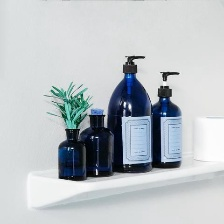bottle: (105, 62, 156, 178), (149, 87, 187, 173), (77, 113, 115, 181), (55, 124, 87, 182)
